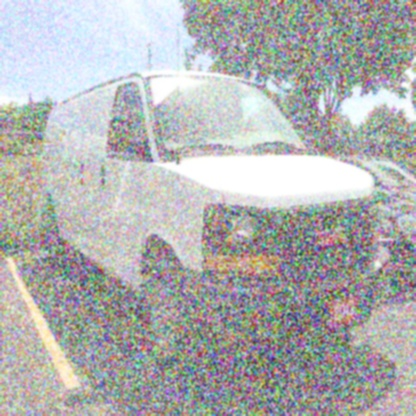Vehicle: (40, 70, 394, 386)
